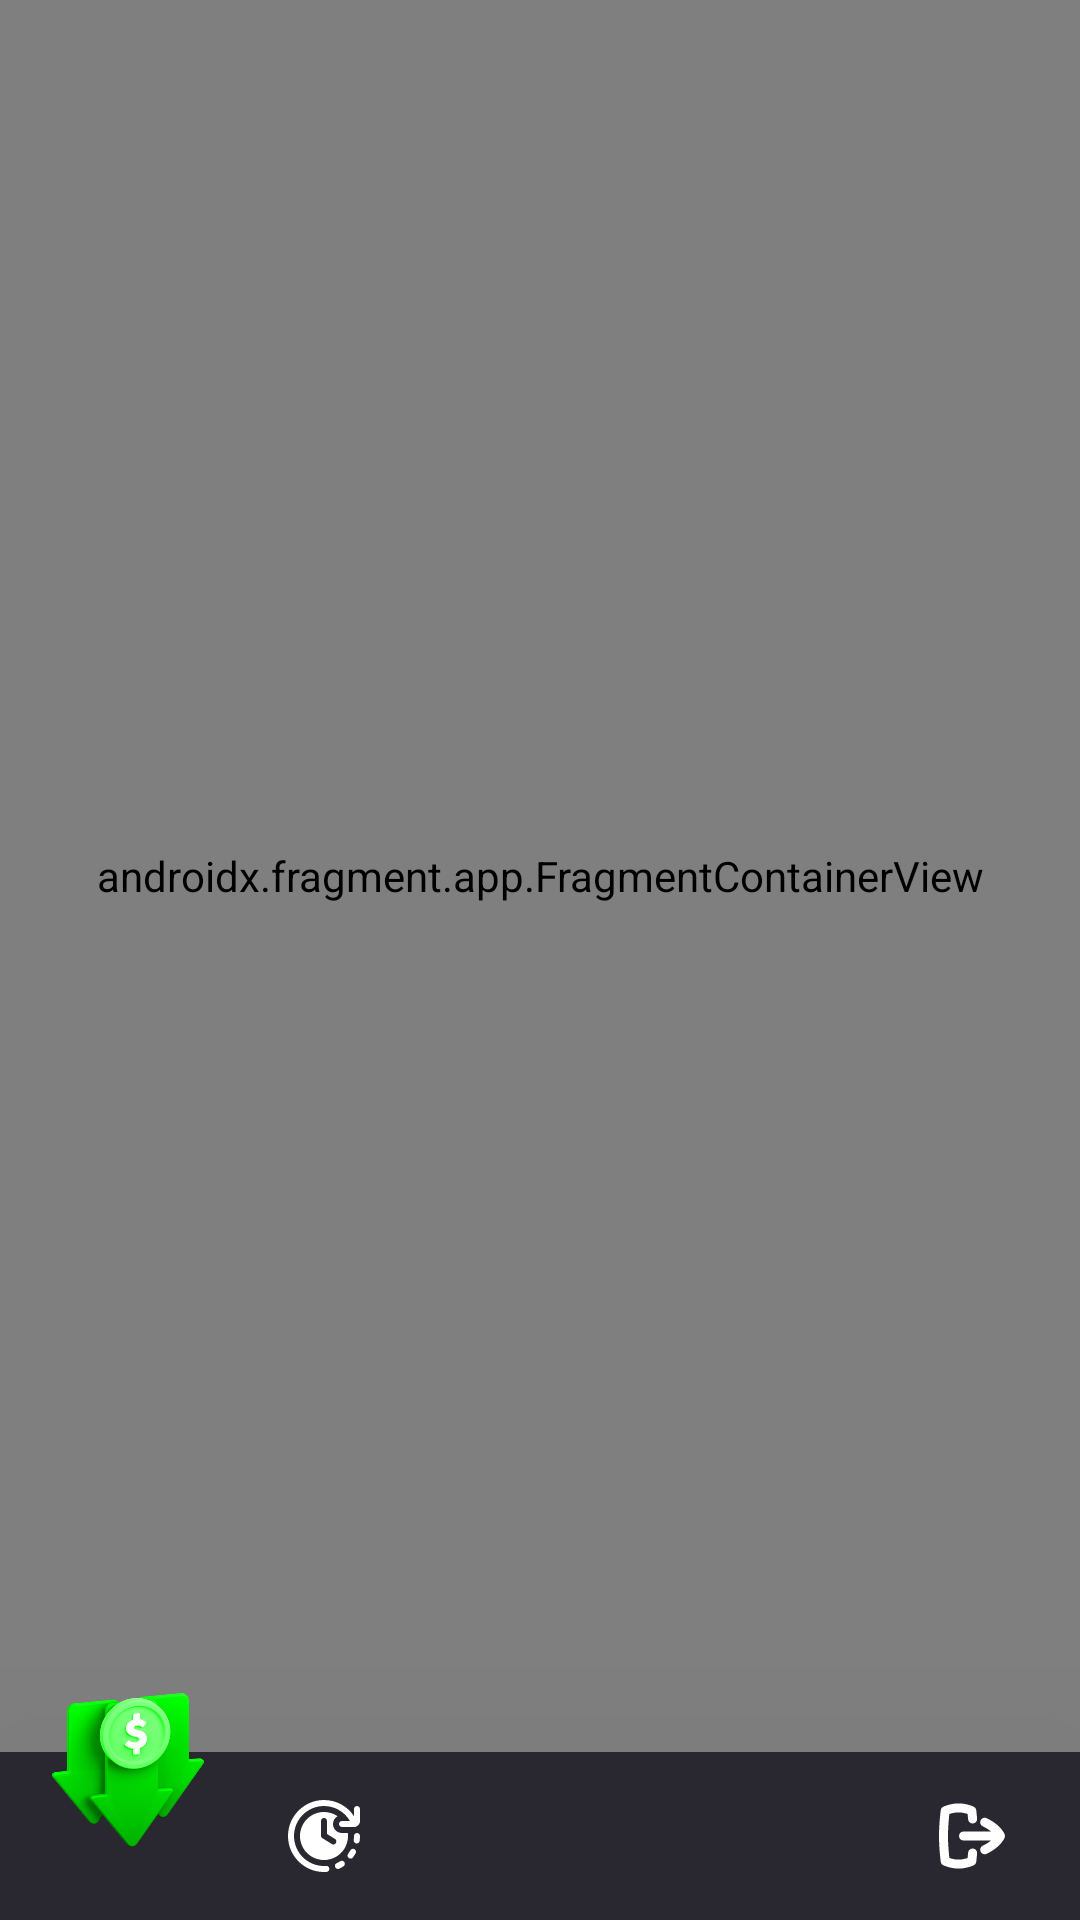

Named icons in this screenshot (1080 × 1920) and their centers, (x=x, y=y):
price fall: (x=128, y=1770)
